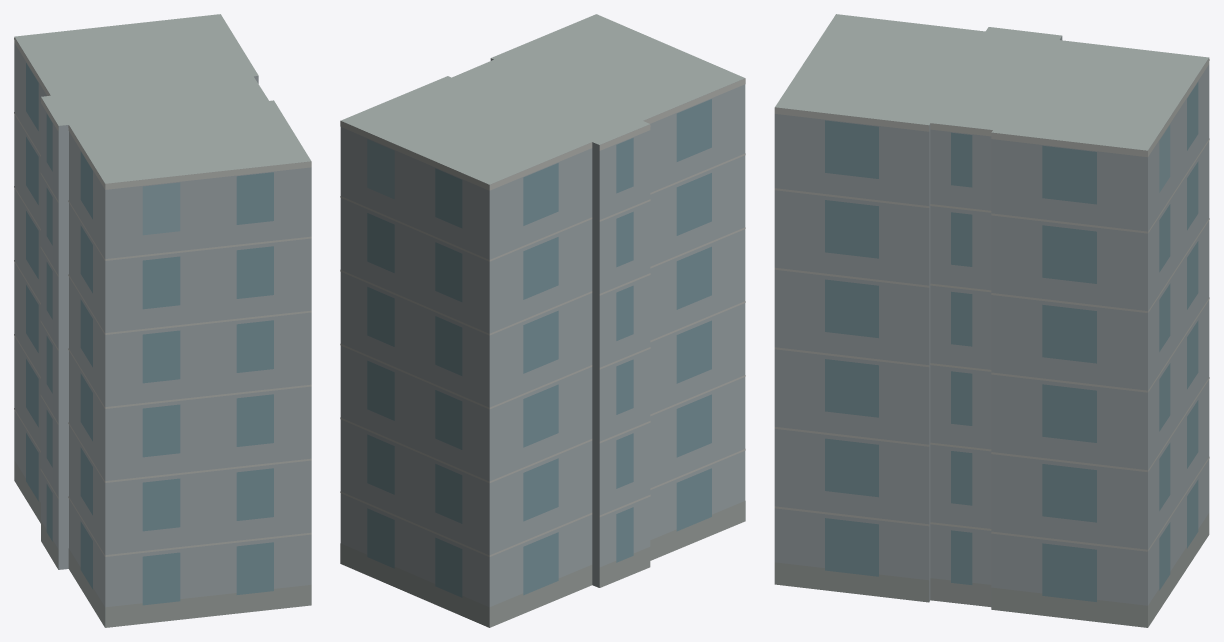
Rendered from survey-upis-32947849.glb.
The picture shows the model from 3 angles, left to right: view 1: azimuth 30°, elevation 25°; view 2: azimuth 150°, elevation 25°; view 3: azimuth 270°, elevation 25°; orthographic projection. The views are drawn at different scales.
Parts seen in each view (by area): view 1: survey-upis-32947849.tmp; view 2: survey-upis-32947849.tmp; view 3: survey-upis-32947849.tmp.
Part boxes in pixels (x1,y1,x2,y2): survey-upis-32947849.tmp: (14, 14, 311, 627); survey-upis-32947849.tmp: (340, 14, 745, 627); survey-upis-32947849.tmp: (774, 14, 1209, 627).
Bounding box in the file's own units: 10.99 × 17.85 × 14.75.
